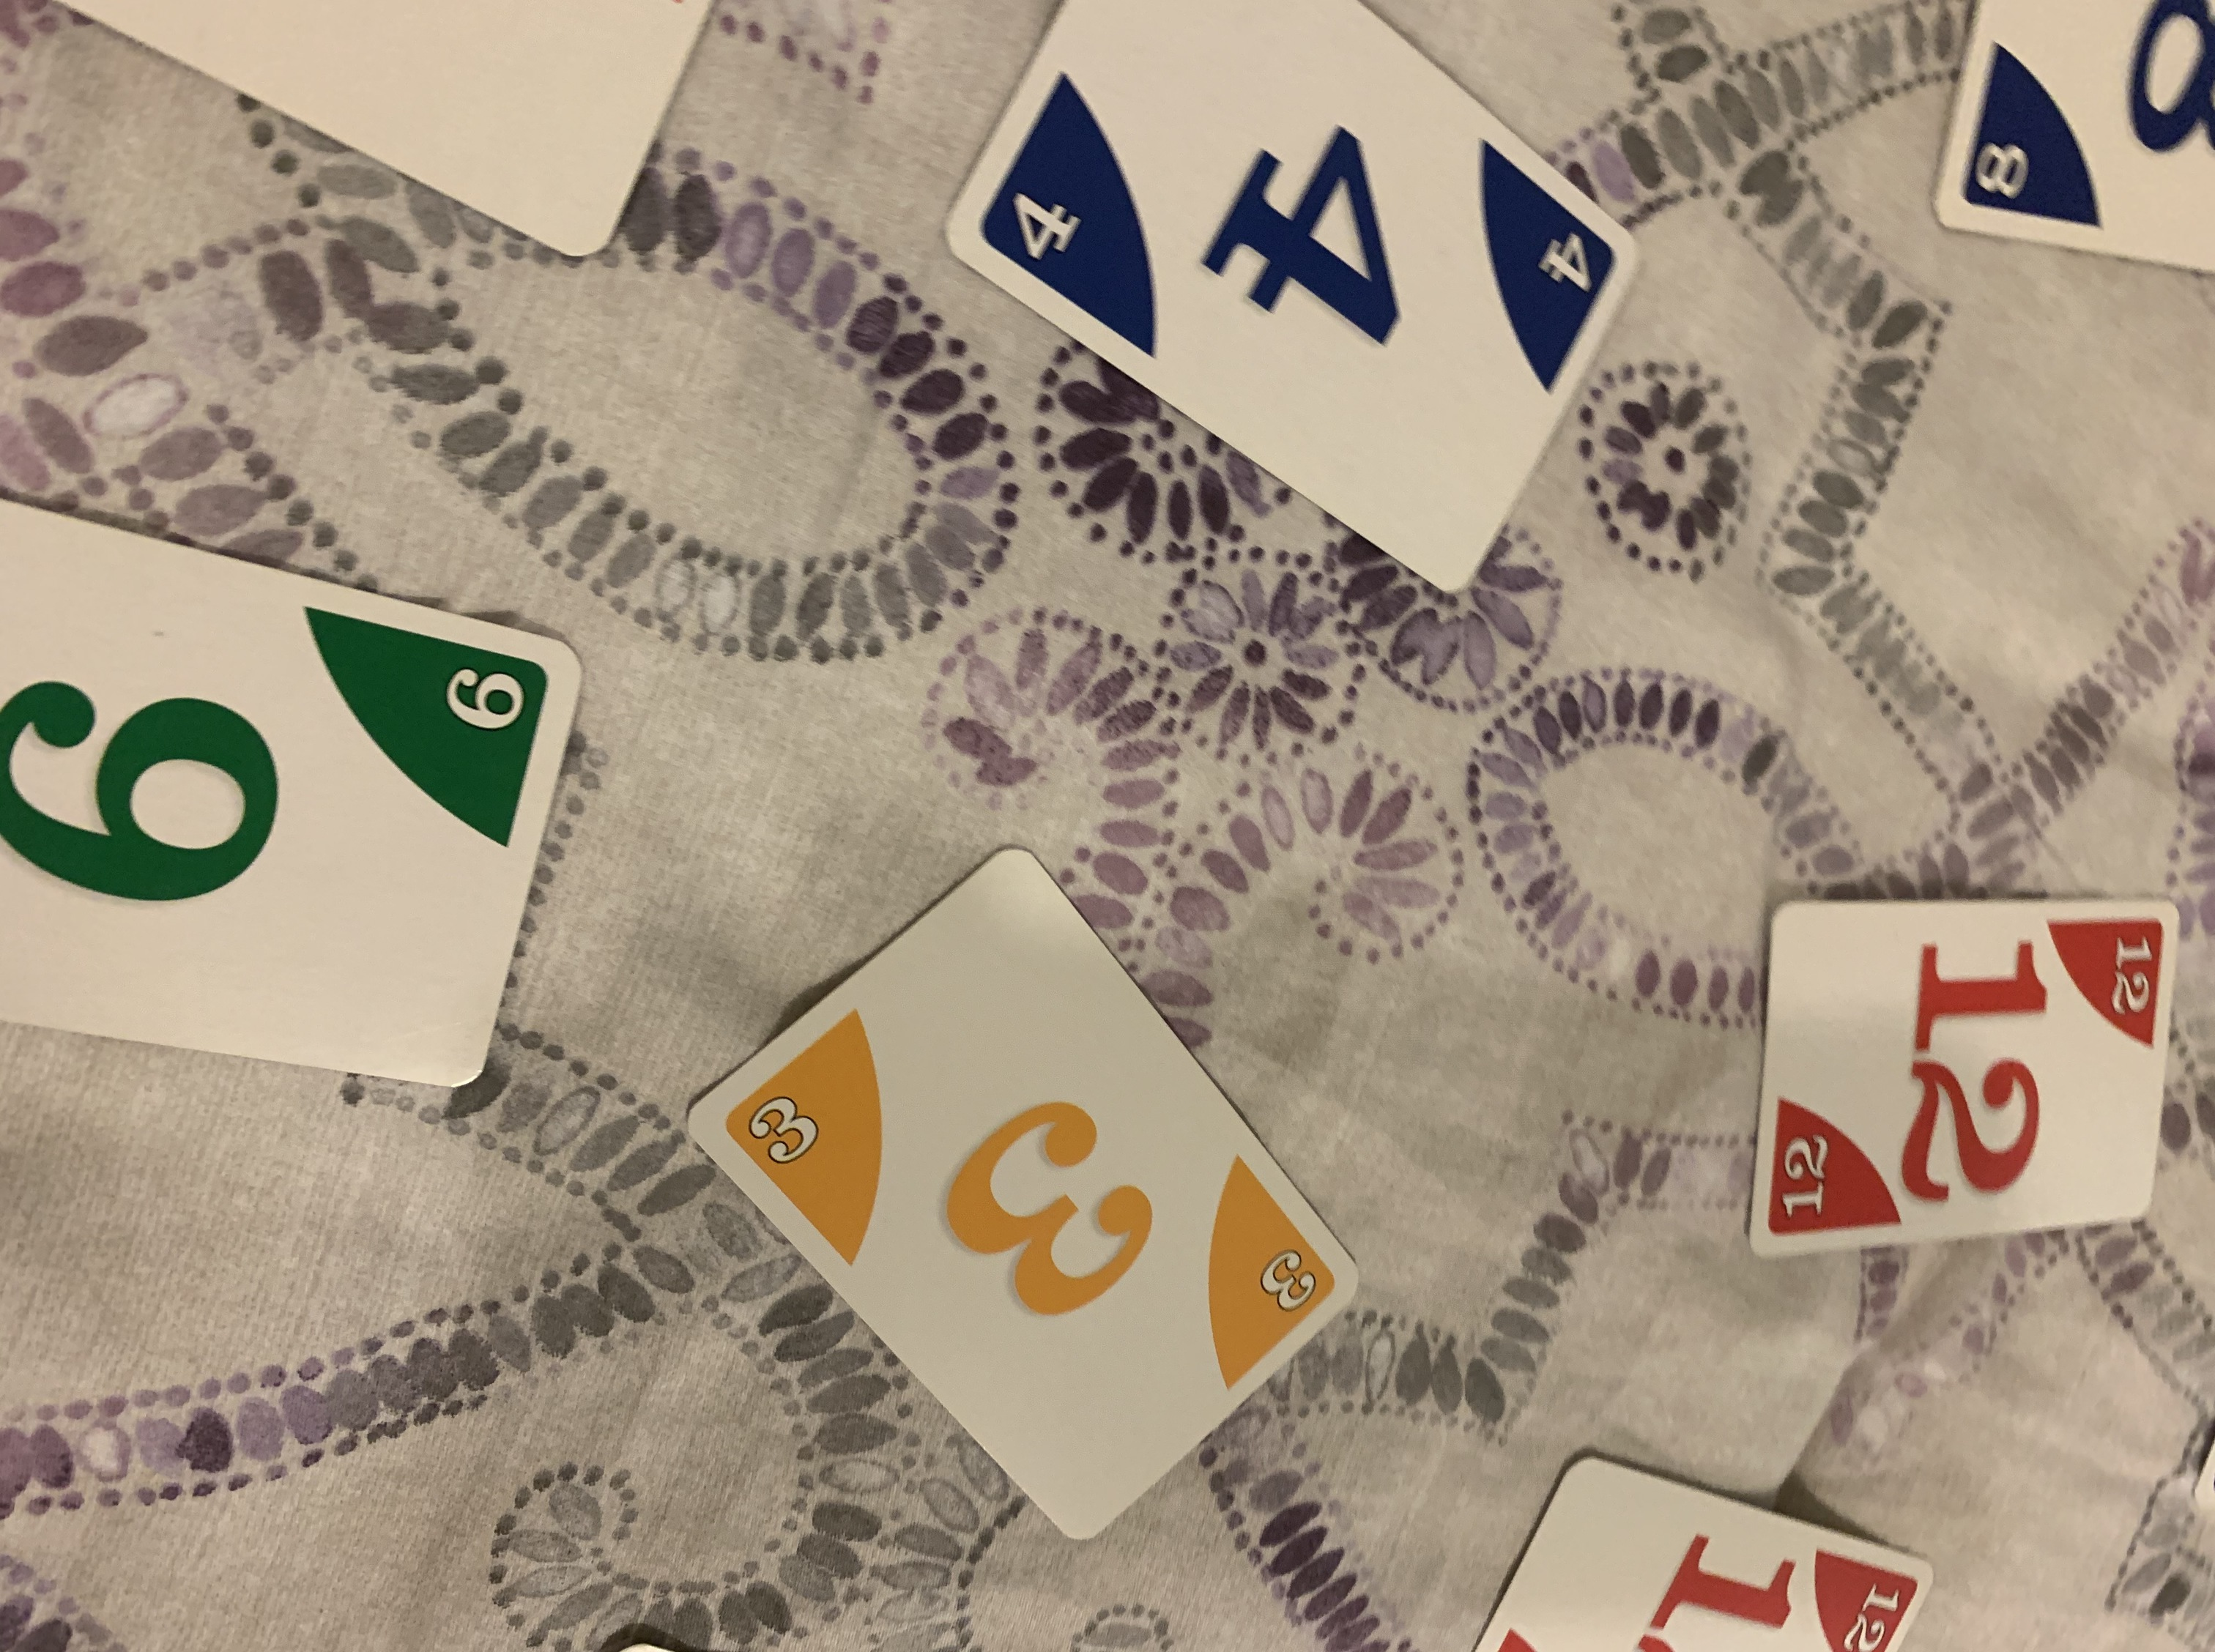four: (953, 0, 1644, 600)
six: (0, 488, 583, 1118)
three: (694, 836, 1368, 1551)
twelve: (1748, 880, 2172, 1260)
